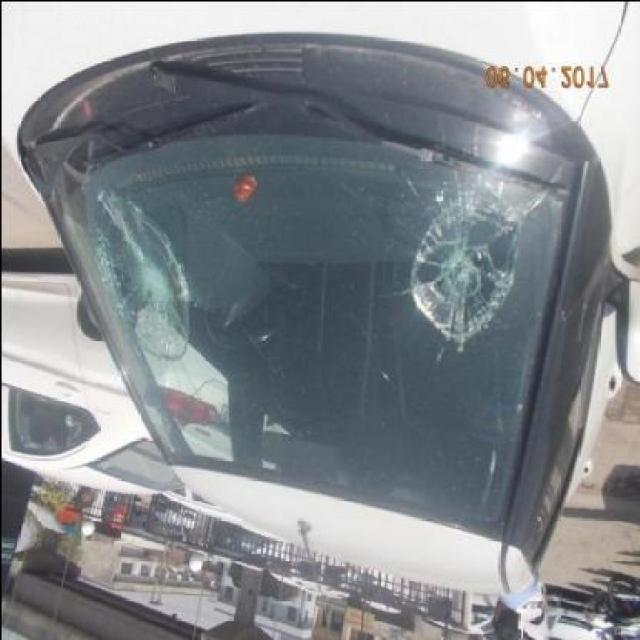damage: (410, 187, 516, 341), (94, 196, 186, 355)
